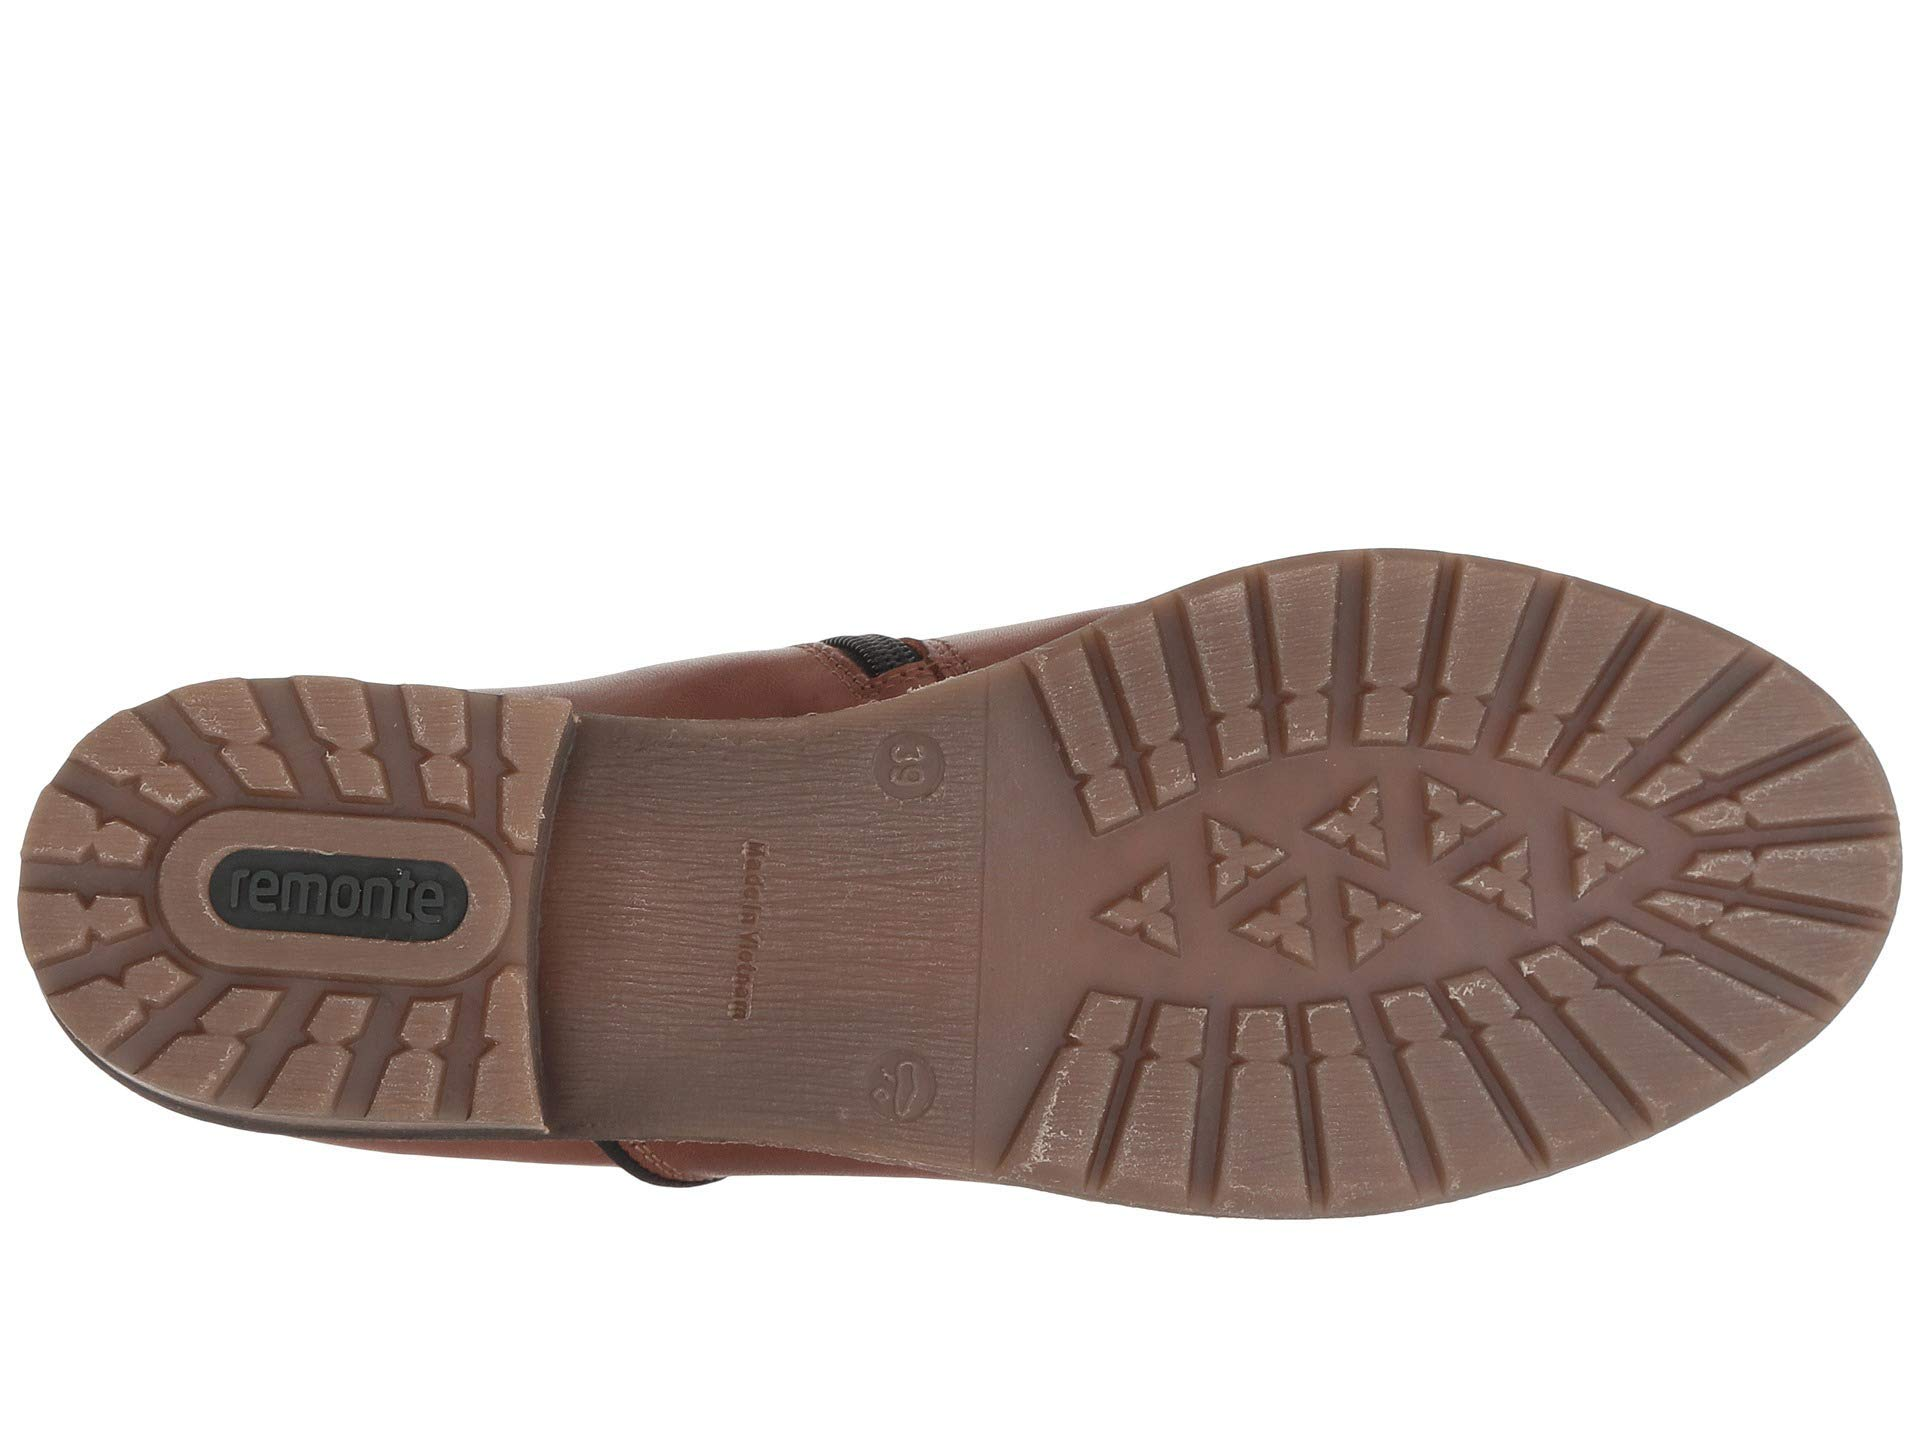bowtie: (1206, 977, 1442, 1245), (1326, 526, 1547, 750), (203, 970, 466, 1144), (153, 653, 398, 821)
circle: (856, 715, 962, 829)
star: (1290, 767, 1500, 976), (1528, 782, 1658, 915), (1064, 849, 1202, 973)
text: (856, 715, 962, 829)
triangle: (1290, 767, 1500, 976), (1528, 782, 1658, 915), (1064, 849, 1202, 973)
